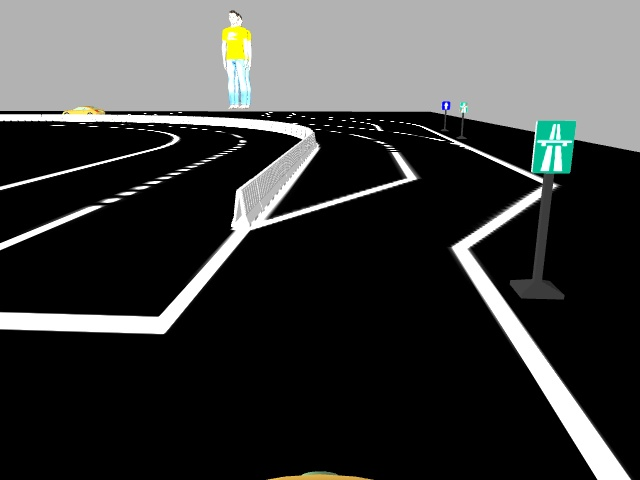HighwayEntrance: (533, 118, 572, 173)
